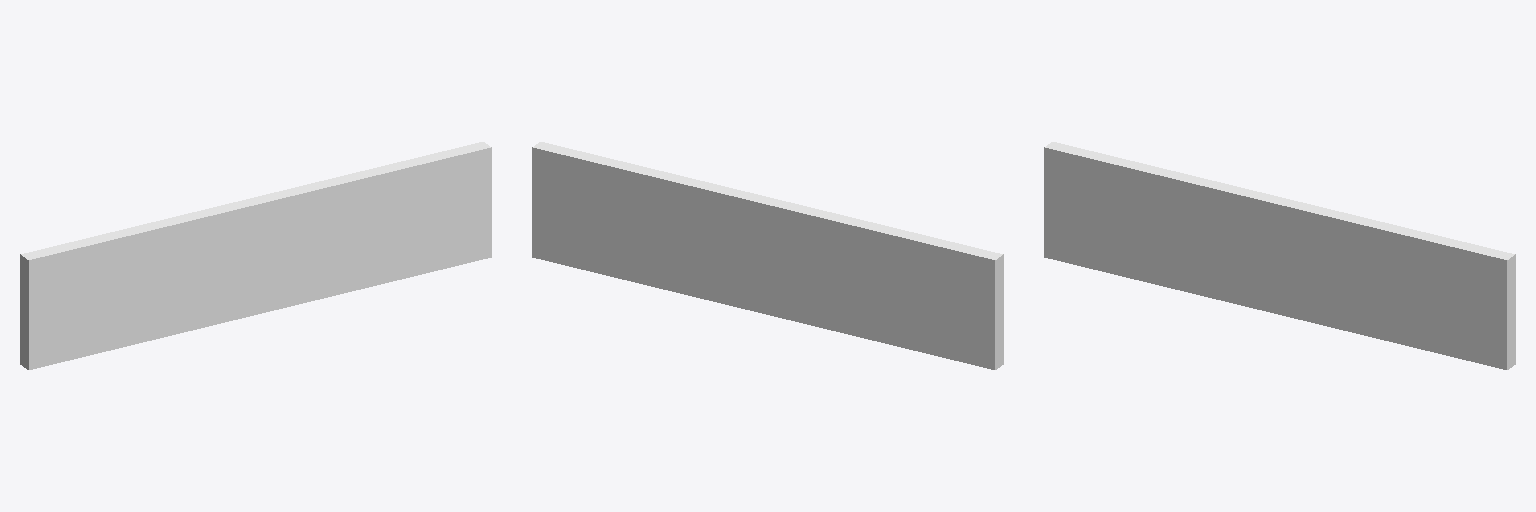
The robot description file, URDF, robot "drawer_backwall":
<?xml version="1.0" ?>
<robot name="drawer_backwall">
 <link name="baseLink">
   <contact>
     <lateral_friction value="0.5"/>
   </contact>
   <inertial>
     <origin rpy="0 0 0" xyz="0.7 0.03 0.625"/>
      <mass value="1.0"/>
      <inertia ixx="0.000004" ixy="0.000000" ixz="-0.000000" iyy="0.000076" iyz="-0.000000" izz="0.000072"/>
   </inertial>
   <visual>
     <origin rpy="0 0 0" xyz="0 0 0"/>
     <geometry>
       <mesh filename="drawer_backwall.obj" scale="1.0 1.0 1.0"/>
     </geometry>
      <material name="white">
       <color rgba="1 1 1 1"/>
     </material>
   </visual>
   <collision>
     <origin rpy="0 0 0" xyz="0 0 0"/>
     <geometry>
       <mesh filename="drawer_backwall.obj" scale="1.0 1.0 1.0"/>
     </geometry>
   </collision>
 </link>
</robot>

--- Render facts (derived) ---
The picture shows the robot from 3 angles, left to right: view 1: azimuth 30°, elevation 25°; view 2: azimuth 150°, elevation 25°; view 3: azimuth 330°, elevation 25°; orthographic projection.
Model drawer_backwall with 1 links and 0 joints (none), rooted at baseLink, posed every joint at zero.
Visible links, largest first — view 1: baseLink; view 2: baseLink; view 3: baseLink.
Boxes of the visible links, x1,y1,x2,y2 form: baseLink: (20,142,491,369); baseLink: (532,142,1003,369); baseLink: (1044,142,1515,369).
Bounding box of the posed robot: 0.66 × 0.02 × 0.15 m (x, y, z).
Meshes: 1 distinct files referenced, 1 mesh visuals loaded (1 OBJ).